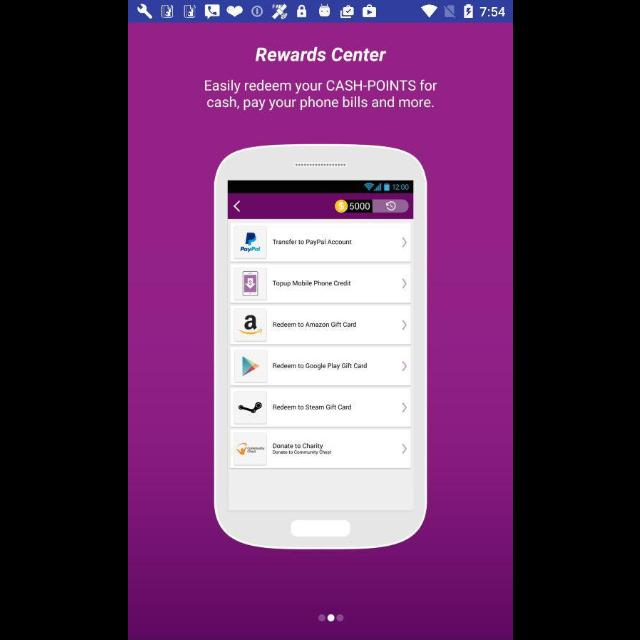image: (214, 145, 426, 550)
pageindicator: (316, 614, 344, 622)
text: (204, 80, 436, 112), (254, 47, 386, 63)
uppertaskbar: (128, 1, 512, 23)
